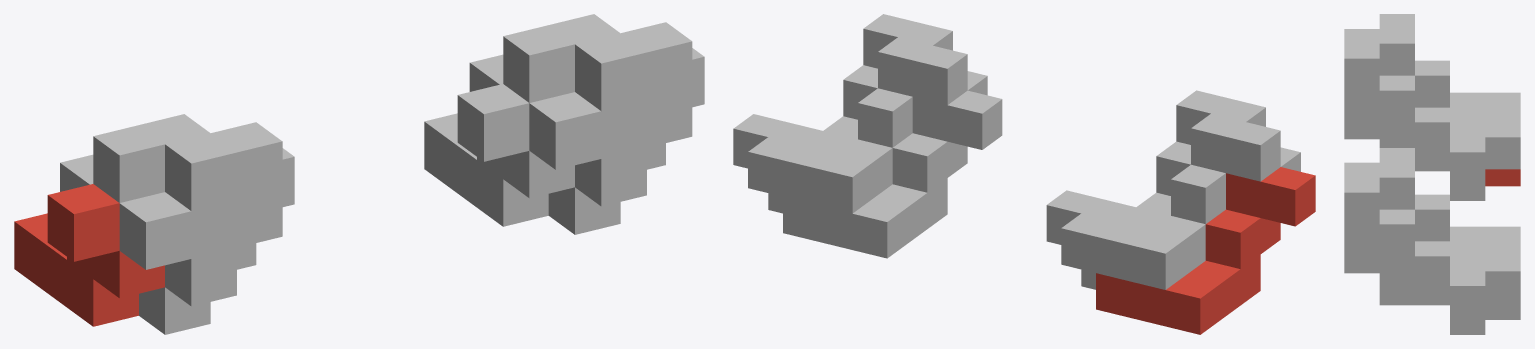
Rendered from tiling.obj.
3 renders of one model, left to right at view 1: azimuth 30°, elevation 25°; view 2: azimuth 150°, elevation 25°; view 3: azimuth 270°, elevation 25°, orthographic. The views are drawn at different scales.
Parts seen in each view (by area): view 1: copy_1_domain_5, copy_1_domain_1, copy_1_domain_6, copy_1_domain_2, copy_1_domain_4, copy_1_domain_8, copy_1_domain_7, copy_1_domain_3; view 2: copy_1_domain_7, copy_1_domain_3, copy_1_domain_5, copy_1_domain_1, copy_1_domain_4, copy_1_domain_8, copy_1_domain_6, copy_1_domain_2; view 3: copy_1_domain_8, copy_1_domain_4, copy_1_domain_3, copy_1_domain_7, copy_1_domain_6, copy_1_domain_2, copy_1_domain_1, copy_1_domain_5.
Boxes of the visible parts, left/top/right/bottom form: copy_1_domain_5: left=424, top=84, right=574, bottom=226; copy_1_domain_1: left=14, top=184, right=164, bottom=326; copy_1_domain_6: left=529, top=92, right=646, bottom=234; copy_1_domain_2: left=119, top=192, right=236, bottom=334; copy_1_domain_4: left=165, top=122, right=294, bottom=269; copy_1_domain_8: left=575, top=22, right=704, bottom=169; copy_1_domain_7: left=469, top=14, right=619, bottom=102; copy_1_domain_3: left=60, top=114, right=210, bottom=202; copy_1_domain_7: left=748, top=37, right=967, bottom=213; copy_1_domain_3: left=1061, top=113, right=1280, bottom=289; copy_1_domain_5: left=783, top=90, right=1002, bottom=258; copy_1_domain_1: left=1096, top=167, right=1315, bottom=334; copy_1_domain_4: left=1046, top=90, right=1265, bottom=244; copy_1_domain_8: left=733, top=14, right=952, bottom=168; copy_1_domain_6: left=768, top=71, right=987, bottom=213; copy_1_domain_2: left=1081, top=147, right=1300, bottom=289; copy_1_domain_8: left=1344, top=162, right=1485, bottom=317; copy_1_domain_4: left=1344, top=29, right=1485, bottom=183; copy_1_domain_3: left=1379, top=14, right=1520, bottom=169; copy_1_domain_7: left=1379, top=148, right=1520, bottom=302; copy_1_domain_6: left=1344, top=256, right=1485, bottom=334; copy_1_domain_2: left=1344, top=122, right=1485, bottom=200; copy_1_domain_1: left=1485, top=169, right=1520, bottom=186; copy_1_domain_5: left=1485, top=303, right=1520, bottom=319.
Bounding box in the file's own units: 15 × 4 × 5.
